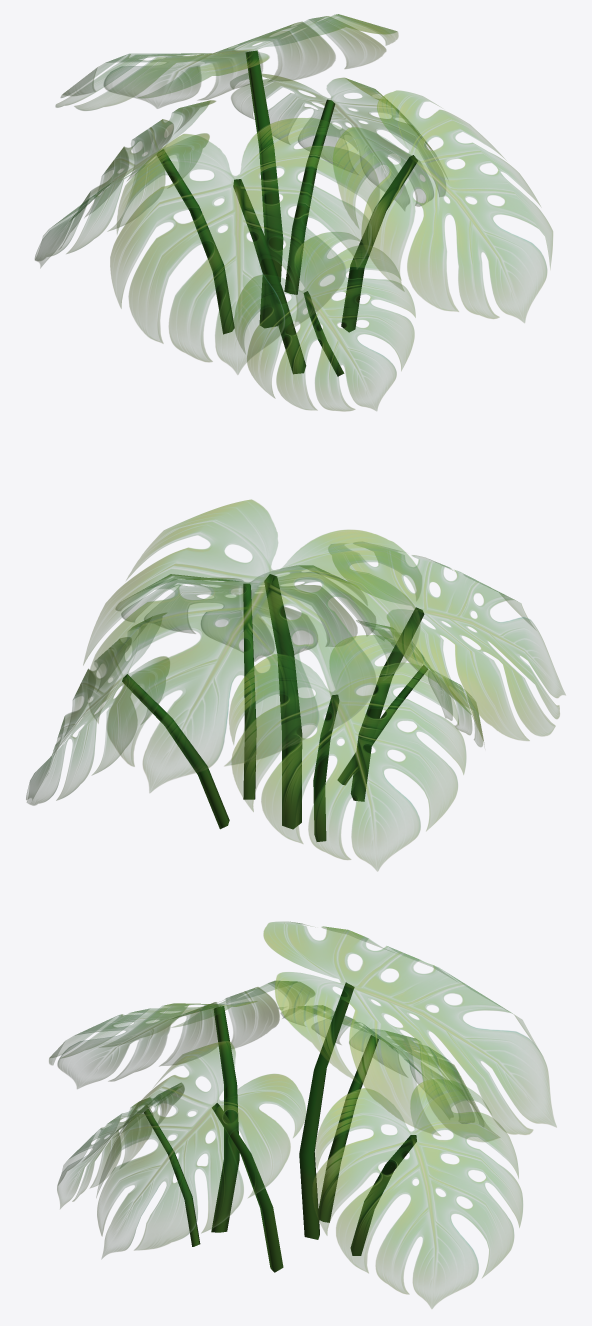
Rendered from Monstera_plant_stylized_bush_low_poly_game_ready.glb.
3 views of the same model, one above another, from view 1: azimuth 30°, elevation 25°; view 2: azimuth 150°, elevation 25°; view 3: azimuth 270°, elevation 25° (orthographic). The views are drawn at different scales.
Visible parts, largest first — view 1: Plane.007_Leaf_0, Plane.006_Leaf_0, Plane.009_Leaf_0, Plane_Leaf_0, Plane.008_Leaf_0, Plane.004_Leaf_0, Cube_Stem_0, Cube.005_Stem_0, Cube.006_Stem_0, Cube.004_Stem_0, Cube.003_Stem_0, Cube.007_Stem_0; view 2: Plane_Leaf_0, Plane.004_Leaf_0, Plane.007_Leaf_0, Plane.008_Leaf_0, Plane.006_Leaf_0, Cube_Stem_0, Cube.005_Stem_0, Cube.004_Stem_0, Plane.009_Leaf_0, Cube.006_Stem_0, Cube.003_Stem_0, Cube.007_Stem_0; view 3: Plane_Leaf_0, Plane.008_Leaf_0, Plane.006_Leaf_0, Plane.007_Leaf_0, Plane.009_Leaf_0, Cube_Stem_0, Plane.004_Leaf_0, Cube.005_Stem_0, Cube.003_Stem_0, Cube.004_Stem_0, Cube.006_Stem_0, Cube.007_Stem_0.
Boxes of the visible parts, x1=… form: Plane.007_Leaf_0: x1=110, y1=117, x2=379, y2=374; Plane.006_Leaf_0: x1=333, y1=90, x2=552, y2=322; Plane.009_Leaf_0: x1=234, y1=232, x2=415, y2=411; Plane_Leaf_0: x1=55, y1=14, x2=398, y2=110; Plane.008_Leaf_0: x1=230, y1=73, x2=445, y2=210; Plane.004_Leaf_0: x1=35, y1=100, x2=215, y2=267; Cube_Stem_0: x1=245, y1=50, x2=283, y2=328; Cube.005_Stem_0: x1=233, y1=179, x2=306, y2=374; Cube.006_Stem_0: x1=284, y1=99, x2=335, y2=294; Cube.004_Stem_0: x1=341, y1=155, x2=417, y2=332; Cube.003_Stem_0: x1=157, y1=149, x2=234, y2=334; Cube.007_Stem_0: x1=303, y1=291, x2=344, y2=376; Plane_Leaf_0: x1=83, y1=499, x2=422, y2=792; Plane.004_Leaf_0: x1=229, y1=635, x2=466, y2=871; Plane.007_Leaf_0: x1=328, y1=542, x2=565, y2=740; Plane.008_Leaf_0: x1=26, y1=613, x2=169, y2=805; Plane.006_Leaf_0: x1=116, y1=565, x2=375, y2=661; Cube_Stem_0: x1=264, y1=574, x2=302, y2=829; Cube.005_Stem_0: x1=350, y1=607, x2=424, y2=801; Cube.004_Stem_0: x1=243, y1=583, x2=256, y2=799; Plane.009_Leaf_0: x1=356, y1=620, x2=484, y2=746; Cube.006_Stem_0: x1=122, y1=674, x2=229, y2=829; Cube.003_Stem_0: x1=313, y1=694, x2=338, y2=841; Cube.007_Stem_0: x1=337, y1=665, x2=427, y2=785; Plane_Leaf_0: x1=263, y1=921, x2=556, y2=1141; Plane.008_Leaf_0: x1=312, y1=1079, x2=522, y2=1308; Plane.006_Leaf_0: x1=96, y1=1041, x2=305, y2=1258; Plane.007_Leaf_0: x1=49, y1=980, x2=314, y2=1088; Plane.009_Leaf_0: x1=57, y1=1083, x2=184, y2=1208; Cube_Stem_0: x1=299, y1=982, x2=354, y2=1239; Plane.004_Leaf_0: x1=278, y1=1005, x2=483, y2=1123; Cube.005_Stem_0: x1=211, y1=1006, x2=239, y2=1232; Cube.003_Stem_0: x1=318, y1=1035, x2=378, y2=1222; Cube.004_Stem_0: x1=212, y1=1103, x2=283, y2=1272; Cube.006_Stem_0: x1=350, y1=1135, x2=416, y2=1255; Cube.007_Stem_0: x1=144, y1=1109, x2=200, y2=1246.
Bounding box in the file's own units: 0.8701 × 0.616 × 1.02.
Materials: 2 (2 with a texture image).
